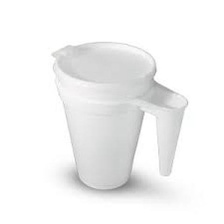paper_cup: (43, 34, 192, 196)
